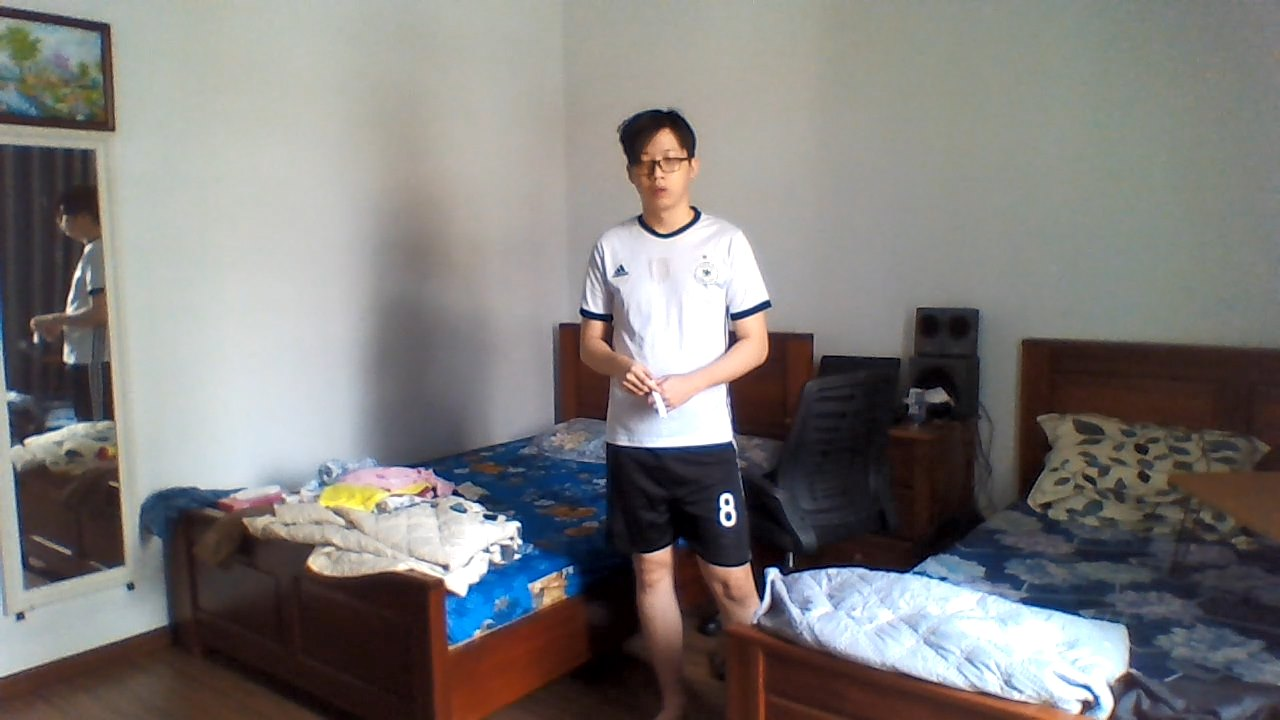cigarette: (649, 386, 671, 419)
person: (566, 96, 779, 583)
